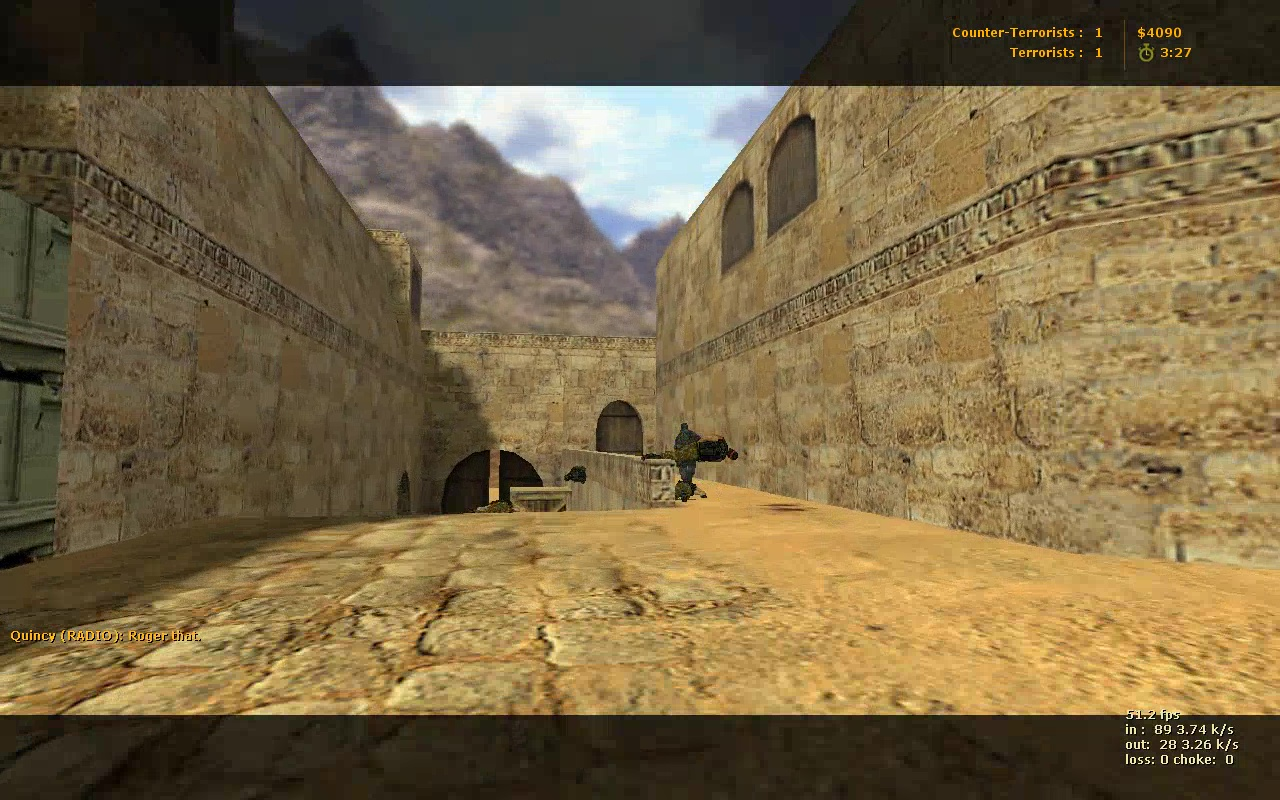ct: (673, 424, 702, 491)
dead: (640, 437, 739, 461)
